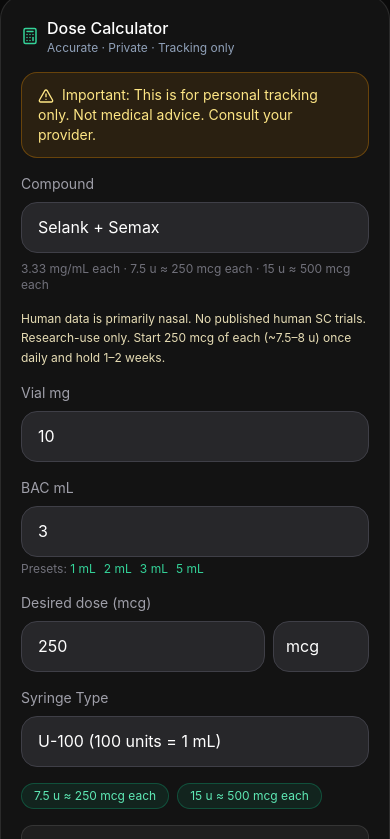
Test: Dose Calculator Selank + Semax › returns ~7.5 units for 250 mcg of each and 15 units for 500 mcg
Check: the text "3.33 mg/mL each · 7.5 u ≈ 250 mcg each · 15 u ≈ 500 mcg each" is shown, box [21,261,369,293]
Check: the text "No published human SC trials" is shown, box [21,311,366,365]
Replace the text in the field showing "250" below "Desired dose (" with "500": (143, 647) [21,621,265,672]
(page scrolled)
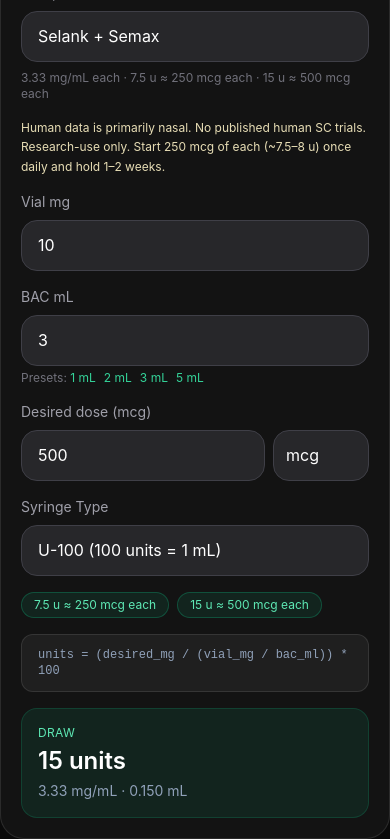
Check: the text "15 units" is shown, box [38,746,126,775]
